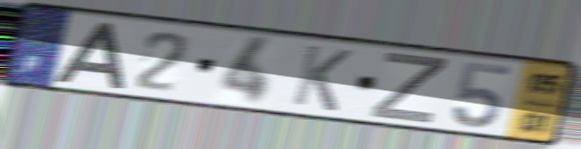2: (131, 30, 192, 94)
4: (215, 33, 274, 108)
5: (449, 59, 514, 131)
A: (50, 20, 128, 90)
K: (288, 42, 356, 114)
Z: (366, 50, 451, 126)
